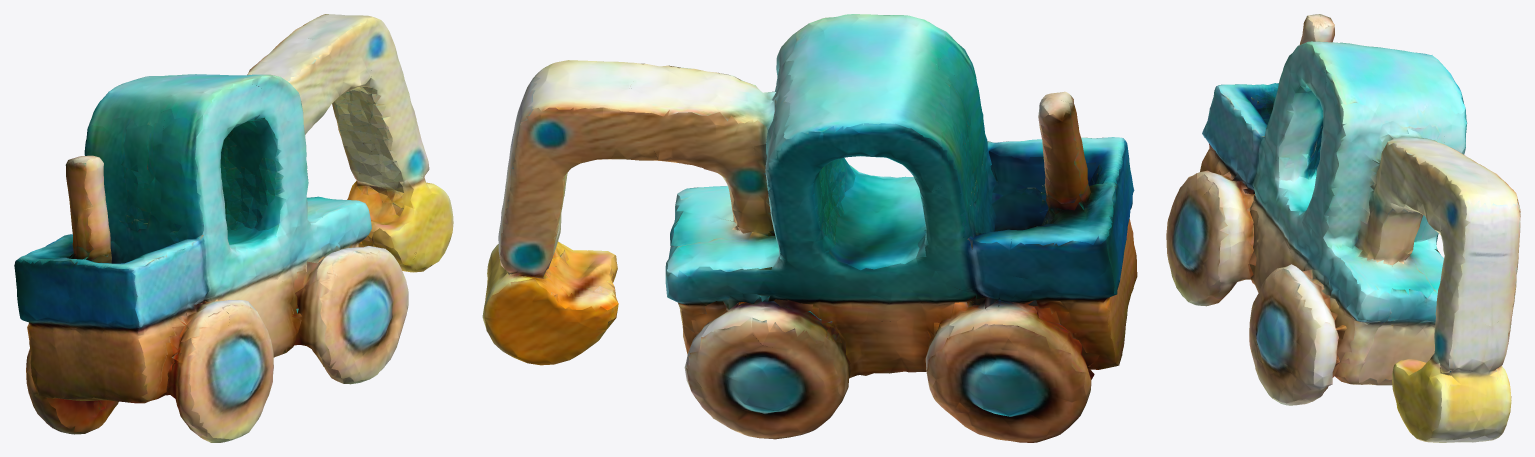
3 views of the same model, side by side, from view 1: azimuth 30°, elevation 25°; view 2: azimuth 150°, elevation 25°; view 3: azimuth 270°, elevation 25° (orthographic). The views are drawn at different scales.
Visible parts, largest first — view 1: world; view 2: world; view 3: world.
Part boxes in pixels (x1,y1,x2,y2): world: (14, 14, 453, 442); world: (482, 14, 1137, 442); world: (1166, 14, 1520, 442).
Size of the model in its own units: 1.02 by 0.6749 by 0.6645.
Materials: 1 (1 with a texture image).
